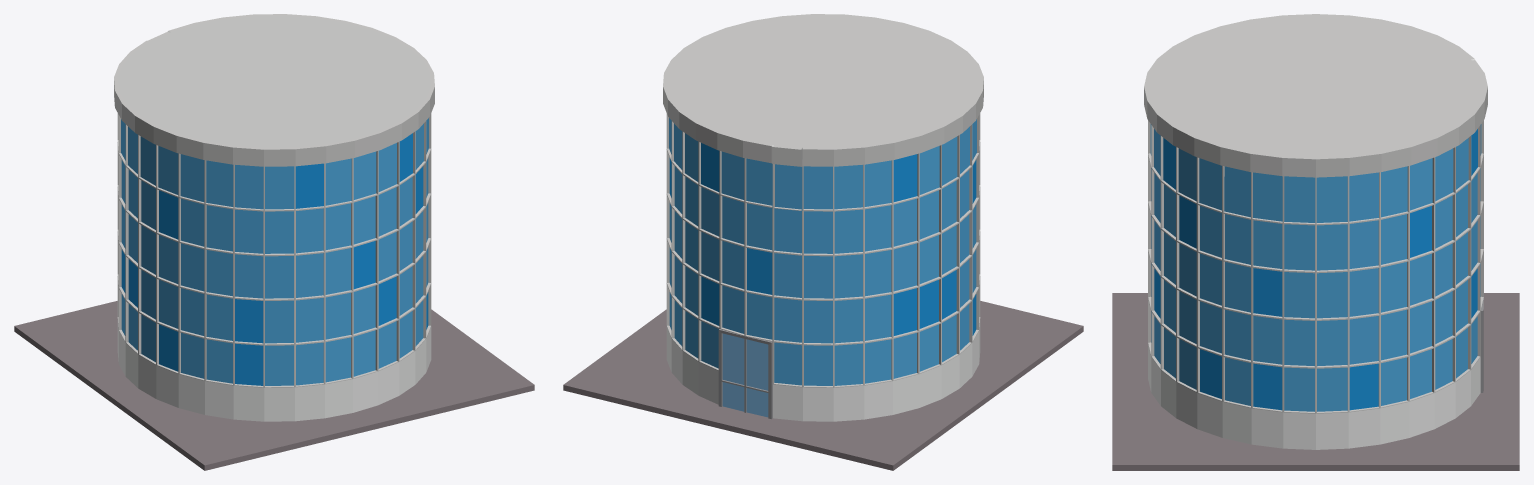
Rendered from building_1x1_0_g.glb.
3 renders of one model, left to right at view 1: azimuth 30°, elevation 25°; view 2: azimuth 150°, elevation 25°; view 3: azimuth 270°, elevation 25°, orthographic. The views are drawn at different scales.
Visible parts, largest first — view 1: FirstFloor; view 2: FirstFloor; view 3: FirstFloor.
Boxes of the visible parts, x1,y1,x2,y2 form: FirstFloor: (14,14,534,470); FirstFloor: (563,14,1083,470); FirstFloor: (1112,14,1519,470).
Bounding box in the file's own units: 2 × 1.62 × 2.
